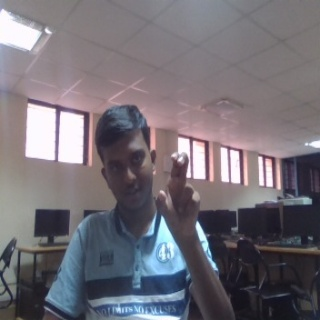No: (155, 147, 203, 240)
